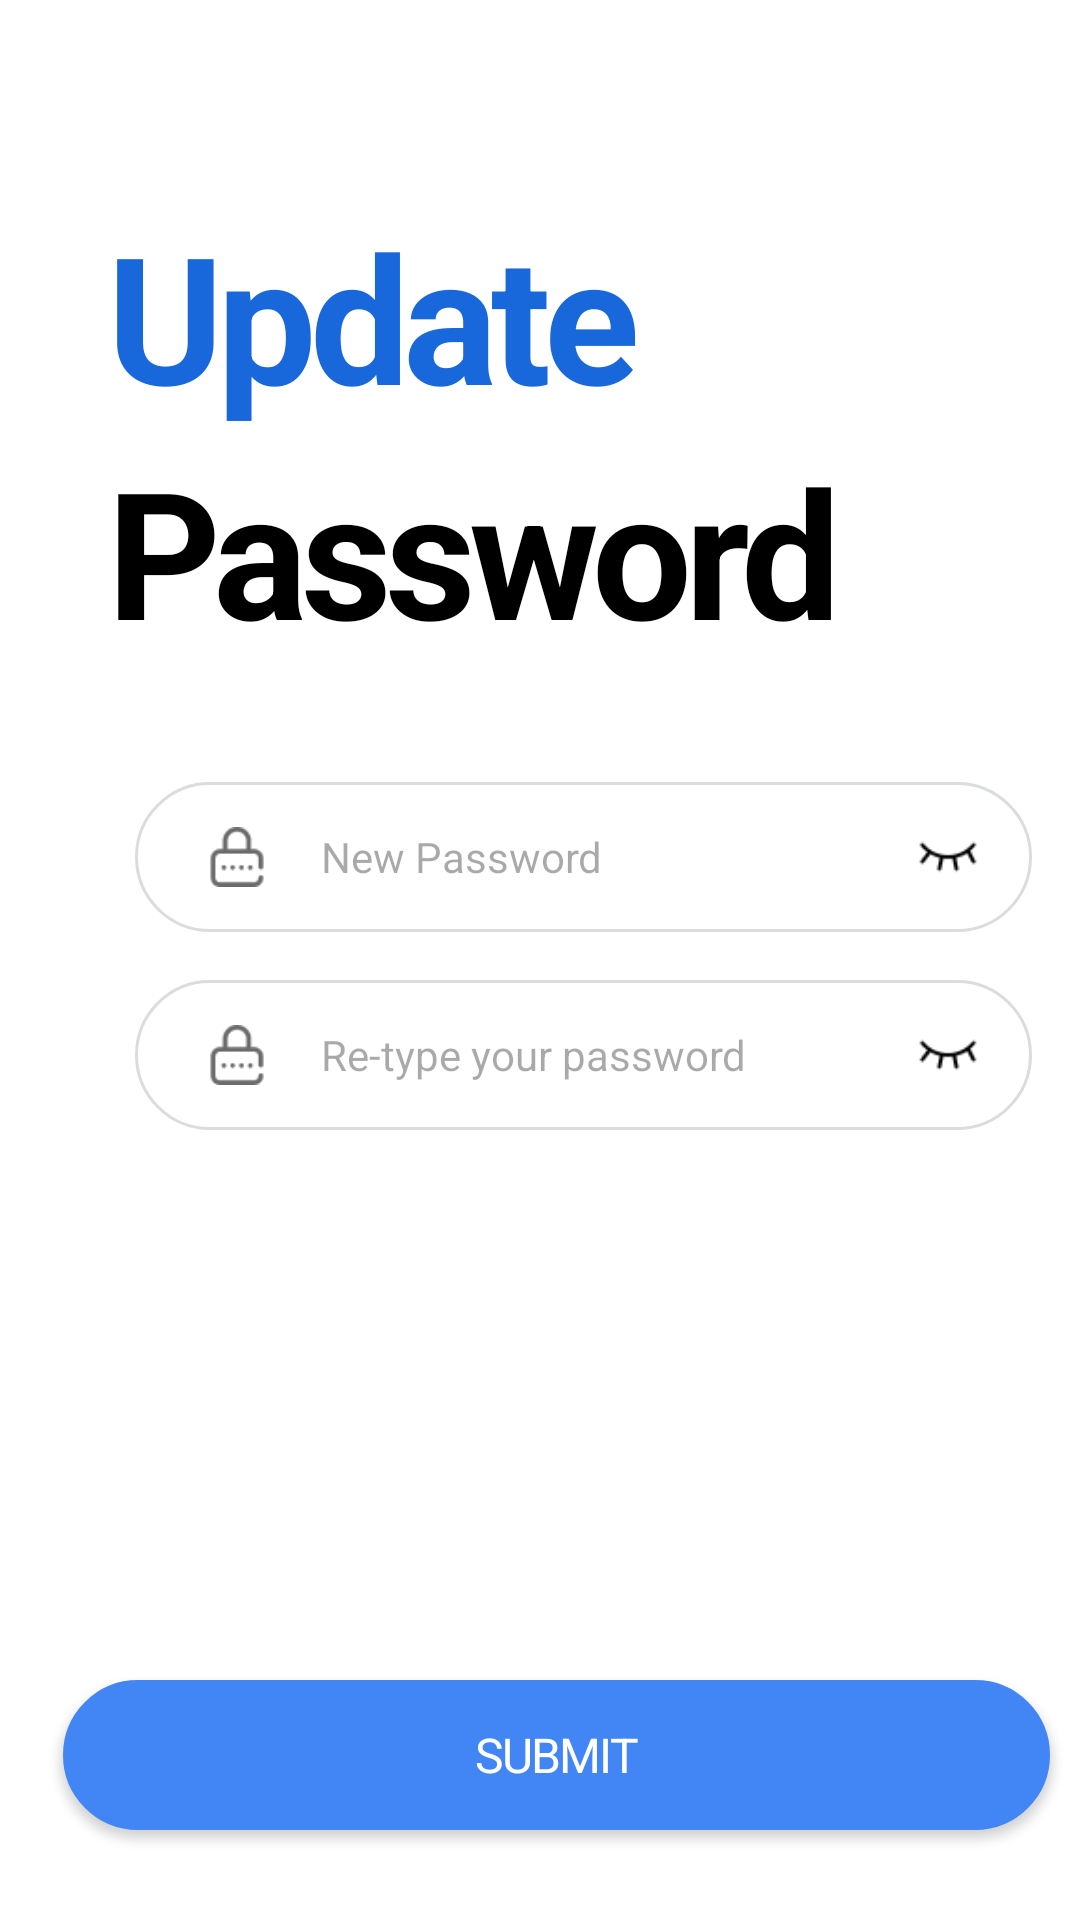

Named icons in this screenshot (1080x1920) and their bounding boxes, Rect(x1, y1, x2, y2):
eye: Rect(919, 842, 977, 872), Rect(919, 1040, 977, 1070)
